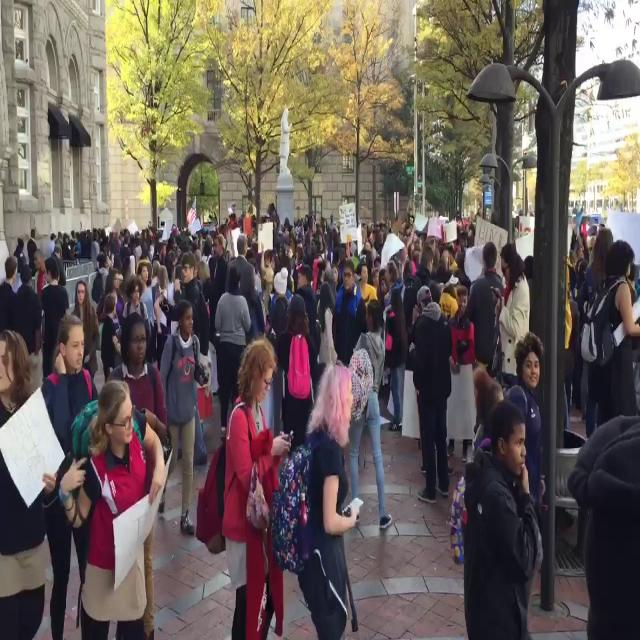body: (0, 199, 640, 361), (560, 197, 640, 639), (195, 334, 296, 639), (56, 374, 170, 639), (265, 351, 359, 639), (104, 309, 170, 640), (0, 321, 62, 639), (40, 312, 100, 640), (462, 402, 544, 640), (154, 293, 210, 539), (344, 296, 399, 533), (448, 362, 504, 567), (581, 239, 640, 431), (507, 329, 547, 608), (159, 250, 209, 466), (408, 284, 452, 506), (278, 292, 318, 530), (582, 227, 616, 441), (214, 265, 252, 443), (445, 284, 477, 464), (489, 241, 531, 377), (466, 240, 504, 379), (268, 265, 296, 438), (381, 286, 412, 438), (379, 258, 407, 412), (40, 254, 71, 386), (207, 232, 229, 398), (69, 276, 102, 379), (335, 259, 363, 369), (12, 262, 42, 358), (225, 233, 258, 310), (100, 290, 122, 386), (273, 103, 295, 195), (316, 278, 338, 367), (412, 243, 442, 305), (296, 263, 319, 342), (0, 253, 20, 335), (134, 257, 156, 330), (122, 277, 150, 331), (356, 261, 378, 319), (90, 252, 112, 306), (522, 255, 534, 332), (33, 248, 48, 296), (27, 228, 39, 278), (13, 237, 27, 274), (368, 268, 381, 302)
